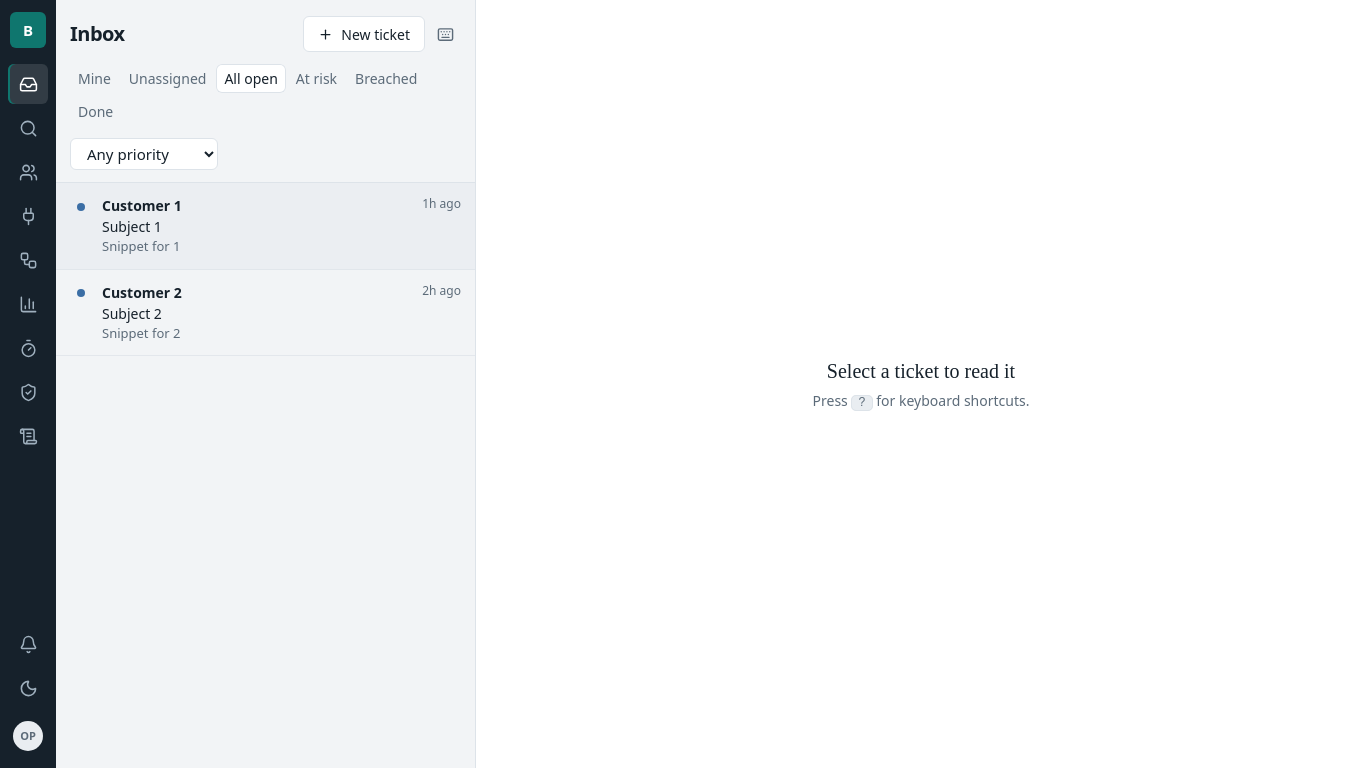
Scenario: inbox › rolls back and explains when the server rejects a bulk change
This screenshot has width=1366, height=768.
Expected: the text "Subject 1" is shown, 102,217 -> 162,236
Type keys "x"
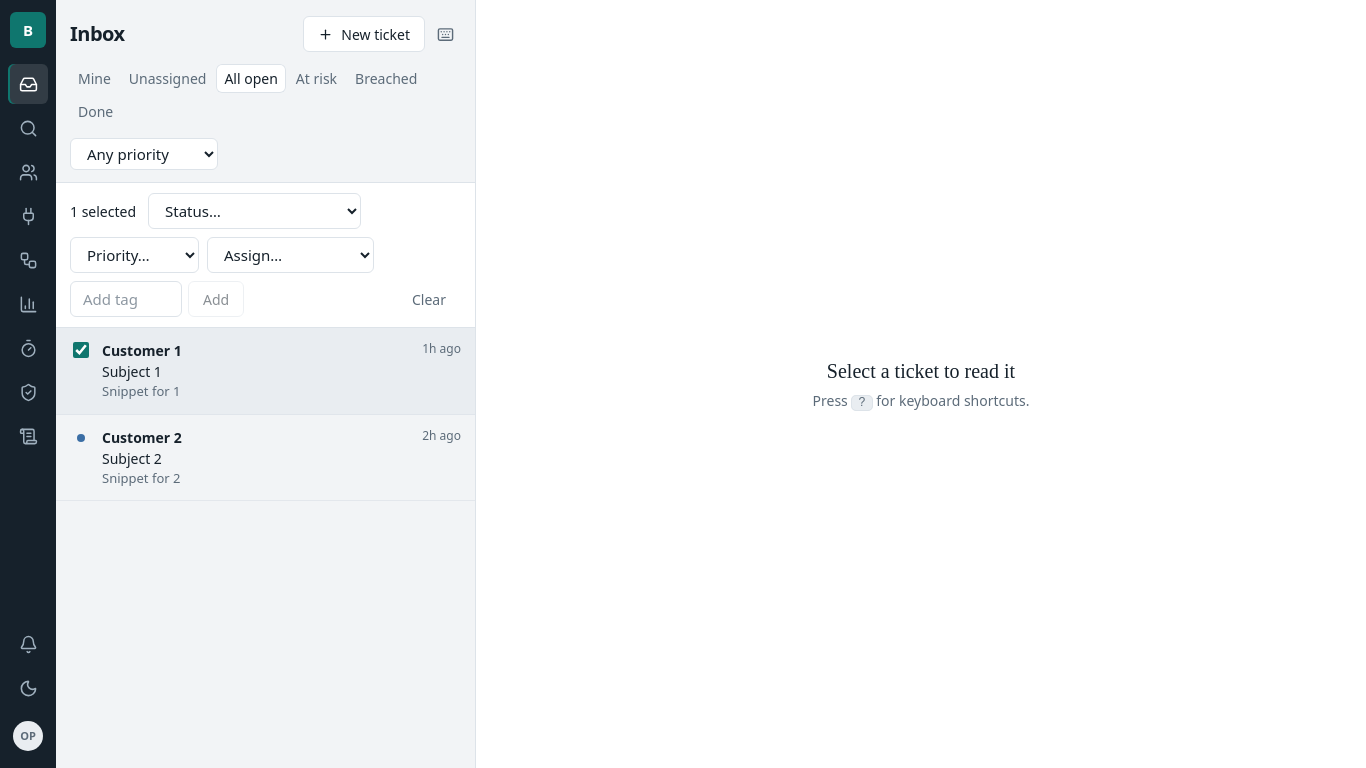
Select "Resolved" in the dropdown named "Set status": (254, 211) 148,193 -> 361,229
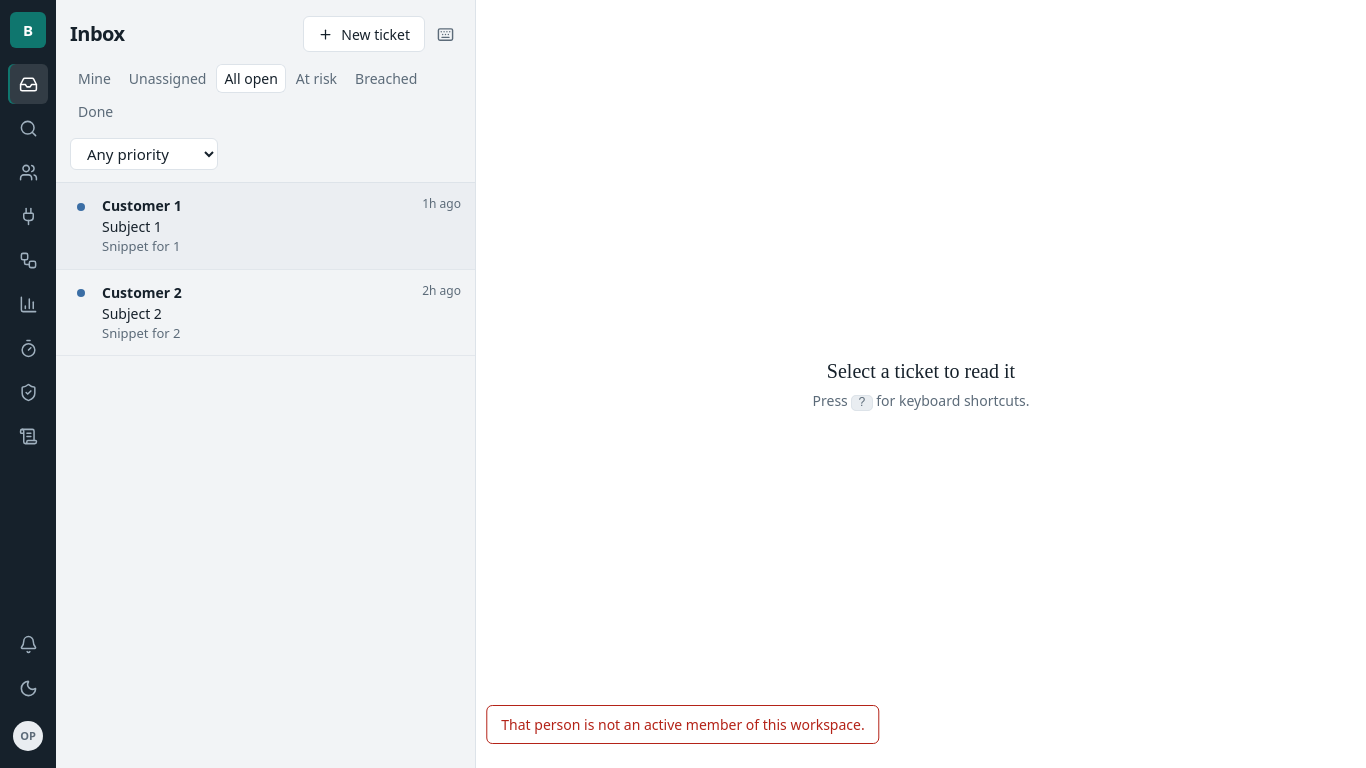
Expected: the text "Subject 1" is shown, 102,217 -> 162,236
Result: the message shows "not an active member" at 501,715 -> 865,734
